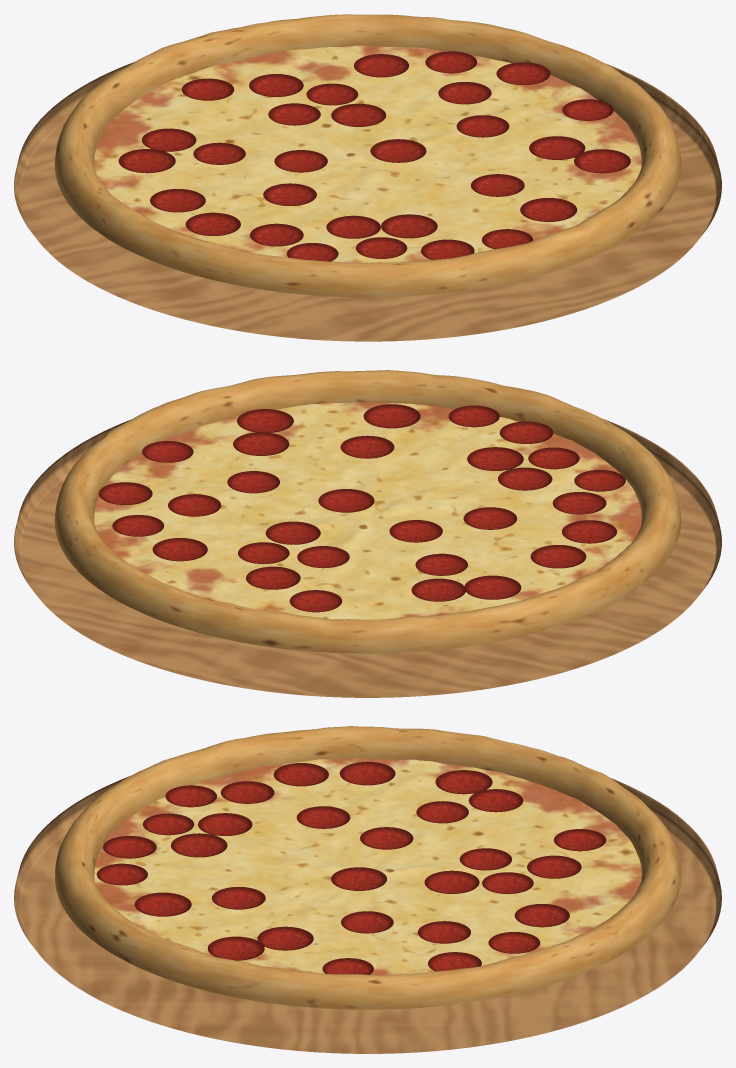
Rendered from pizza-pepperoni.glb.
3 views of the same model, one above another, from view 1: azimuth 30°, elevation 25°; view 2: azimuth 150°, elevation 25°; view 3: azimuth 270°, elevation 25° (orthographic).
Visible parts, largest first — view 1: pizza-pepperoni; view 2: pizza-pepperoni; view 3: pizza-pepperoni.
Boxes of the visible parts, bbox=[...] form: pizza-pepperoni: bbox=[14, 14, 721, 341]; pizza-pepperoni: bbox=[14, 370, 721, 697]; pizza-pepperoni: bbox=[14, 726, 721, 1053].
Bounding box in the file's own units: 0.432 × 0.0398 × 0.432.
Materials: 4 (4 with a texture image).
